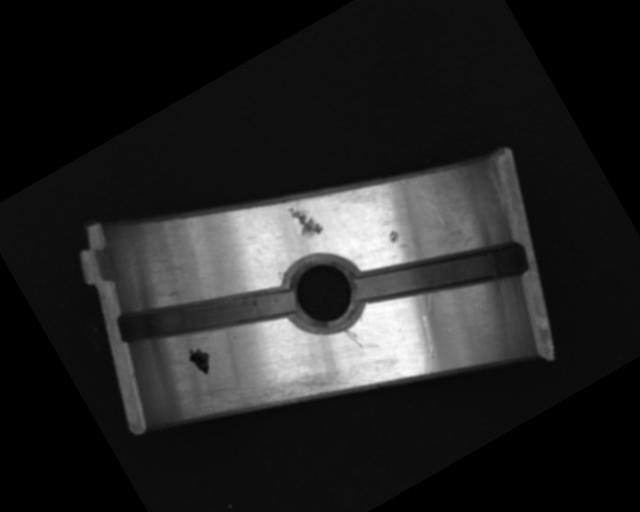blot: (183, 341, 217, 379)
bruise: (286, 197, 327, 243), (386, 226, 403, 246)
gap: (113, 238, 300, 393), (352, 200, 531, 346)
hole: (270, 241, 379, 350)
nick: (399, 312, 454, 376), (341, 323, 364, 351)
scratch: (190, 340, 340, 458)
